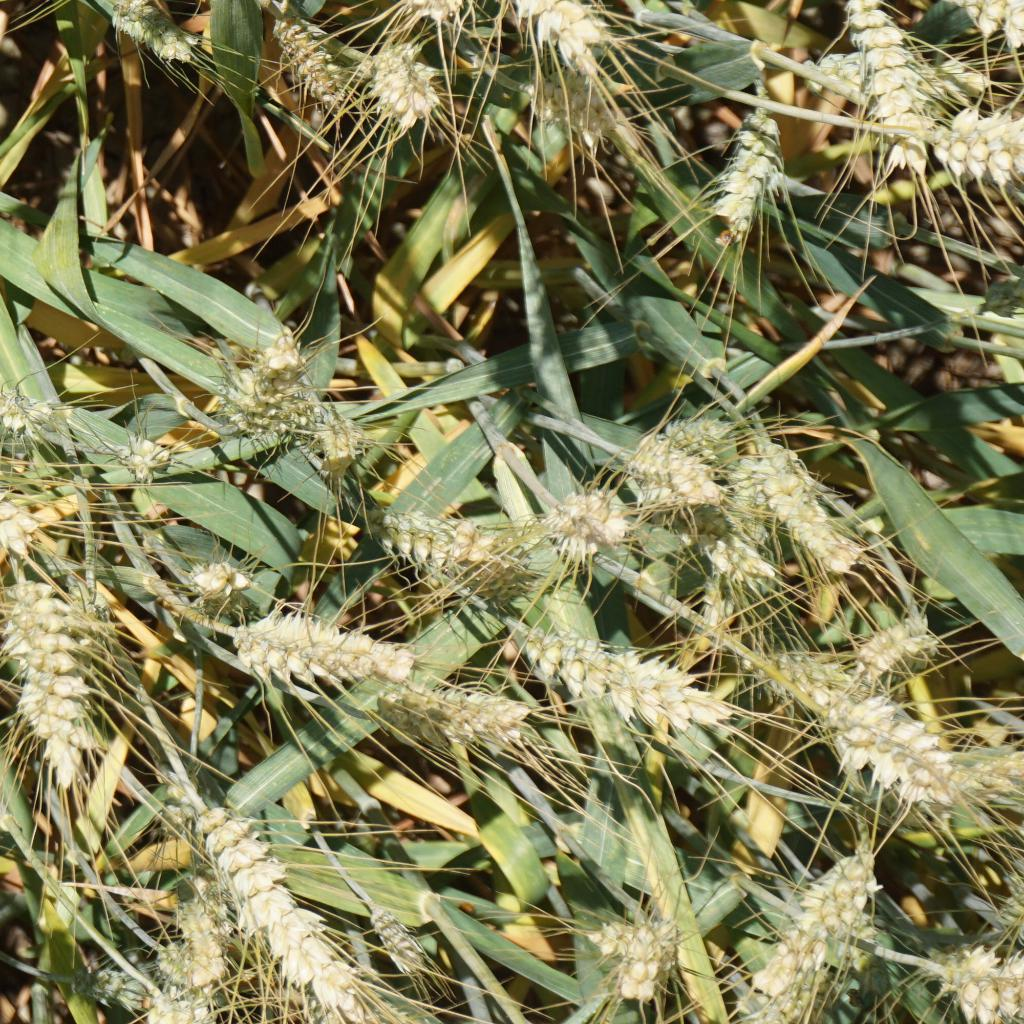0-0: (200, 803, 345, 984), (8, 568, 112, 801), (729, 843, 873, 997), (828, 0, 945, 188), (529, 628, 709, 729), (819, 686, 961, 799), (790, 44, 996, 118), (705, 93, 793, 249), (231, 611, 406, 687), (769, 437, 867, 571), (380, 510, 521, 601), (372, 675, 530, 755), (267, 3, 365, 120), (535, 475, 641, 578), (455, 0, 594, 72), (515, 70, 626, 157), (220, 340, 300, 442), (363, 45, 450, 135), (602, 911, 683, 1003), (0, 401, 44, 564), (99, 0, 198, 72), (691, 507, 772, 591), (930, 952, 1019, 1024), (742, 641, 833, 709), (363, 901, 438, 981), (944, 101, 1024, 172), (299, 406, 368, 485), (855, 614, 947, 672), (631, 442, 712, 506), (153, 896, 223, 967), (954, 745, 1024, 806), (190, 547, 260, 596), (75, 961, 143, 1011), (0, 382, 49, 450), (729, 456, 772, 530), (668, 410, 727, 463), (114, 434, 172, 487), (400, 0, 480, 38), (152, 984, 216, 1024), (968, 0, 1024, 38), (157, 946, 199, 977)
